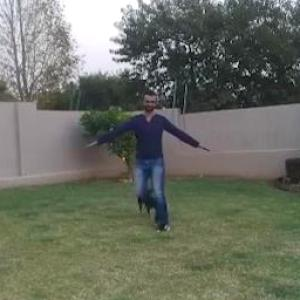land: (88, 98, 200, 229)
